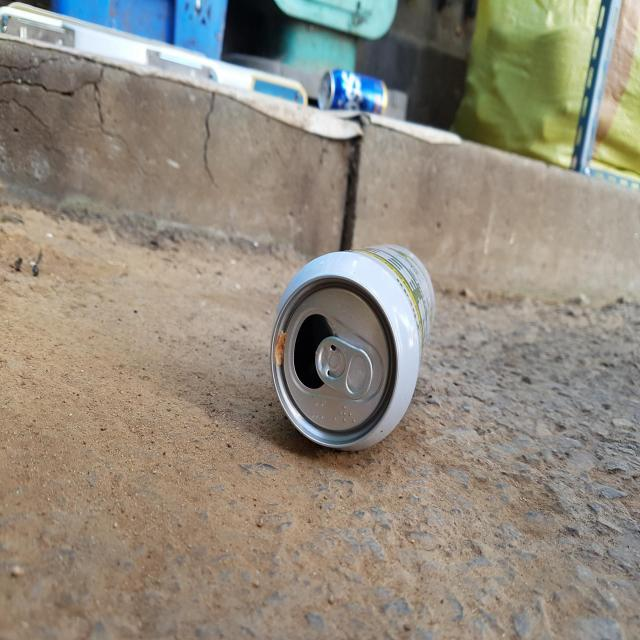can: (271, 244, 435, 451), (319, 68, 388, 114)
